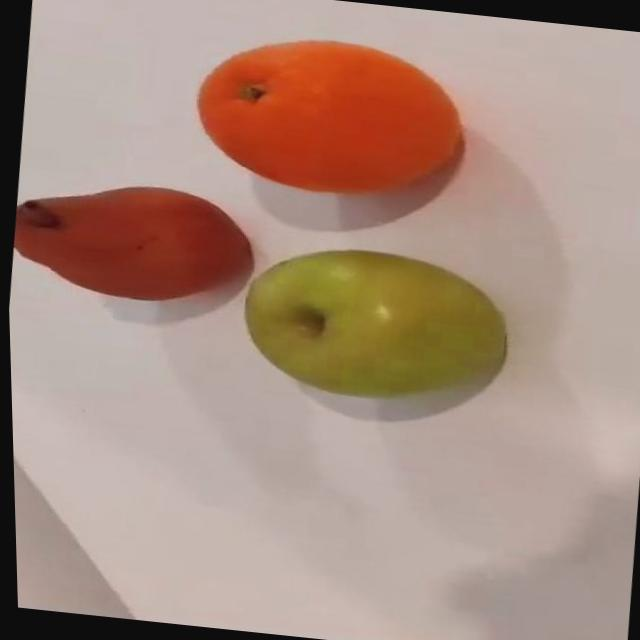Apple: (229, 238, 515, 434), (6, 172, 260, 314)
Orange: (184, 27, 473, 209)
